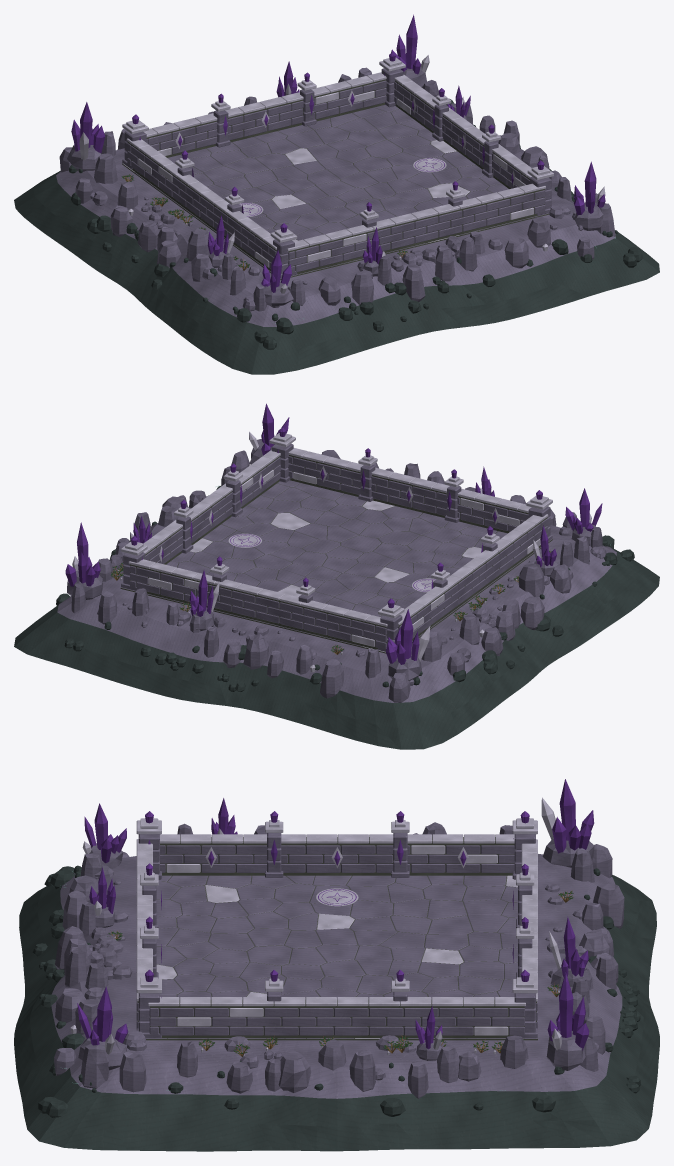
File: realm_08.fbx
3 views of the same model, one above another, from view 1: azimuth 30°, elevation 25°; view 2: azimuth 150°, elevation 25°; view 3: azimuth 270°, elevation 25° (orthographic). The views are drawn at different scales.
Visible parts, largest first — view 1: realm_08__shore, realm_08__closed_walls, realm_08__combat_floor, realm_08__biome_dressing; view 2: realm_08__shore, realm_08__closed_walls, realm_08__combat_floor, realm_08__biome_dressing; view 3: realm_08__shore, realm_08__combat_floor, realm_08__closed_walls, realm_08__biome_dressing.
Boxes of the visible parts, left/top/right/bottom form: realm_08__shore: left=14, top=67, right=659, bottom=374; realm_08__closed_walls: left=122, top=52, right=553, bottom=278; realm_08__combat_floor: left=122, top=104, right=549, bottom=279; realm_08__biome_dressing: left=67, top=14, right=617, bottom=321; realm_08__shore: left=14, top=439, right=659, bottom=749; realm_08__closed_walls: left=121, top=427, right=552, bottom=651; realm_08__combat_floor: left=120, top=480, right=552, bottom=653; realm_08__biome_dressing: left=65, top=403, right=607, bottom=687; realm_08__shore: left=14, top=822, right=659, bottom=1151; realm_08__combat_floor: left=145, top=875, right=537, bottom=1040; realm_08__closed_walls: left=136, top=811, right=537, bottom=1038; realm_08__biome_dressing: left=59, top=779, right=613, bottom=1092.
Bounding box in the file's own units: 112948 × 112749 × 28746.
